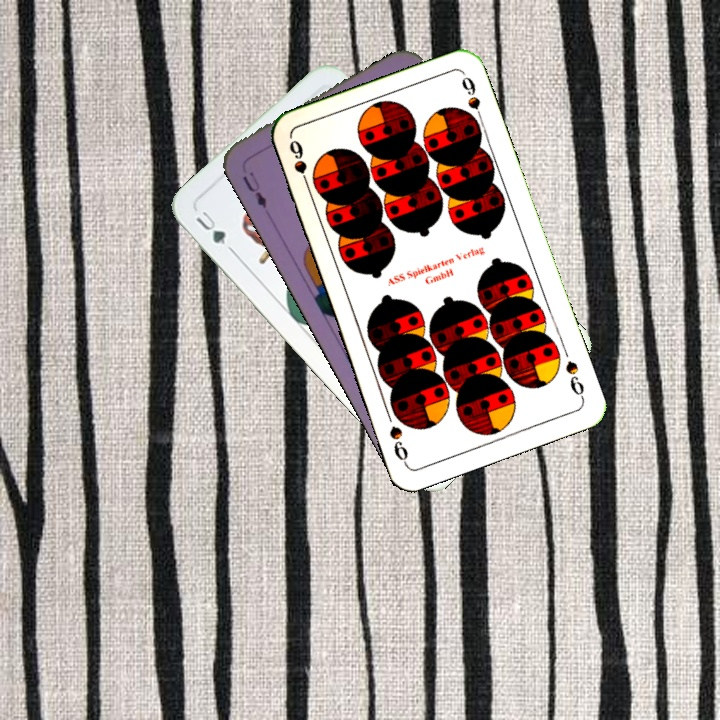EU: (238, 167, 269, 211)
GU: (191, 205, 229, 248)
S9: (285, 135, 313, 193), (561, 357, 587, 403)
